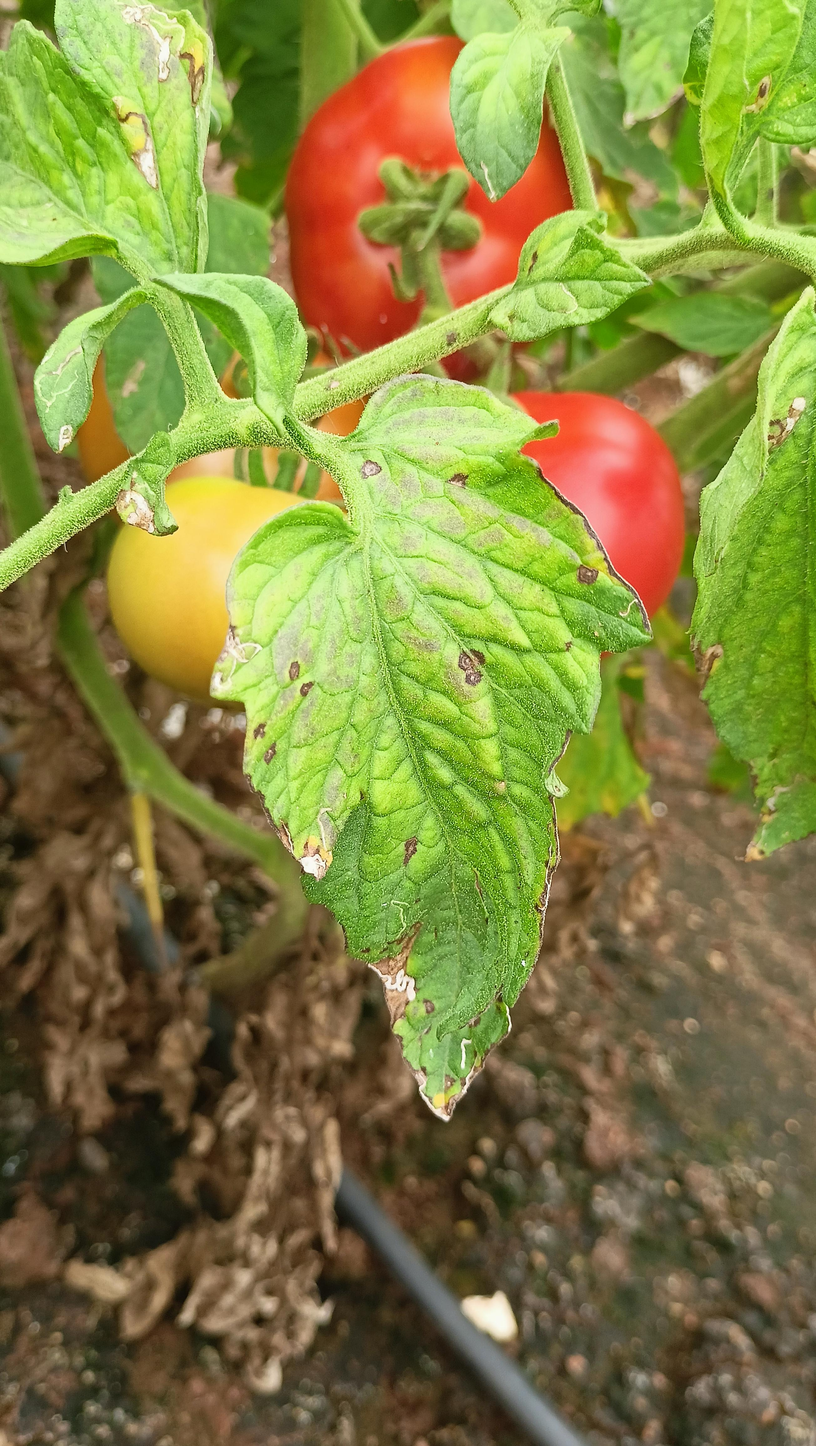Early Blight: (205, 372, 659, 1129)
